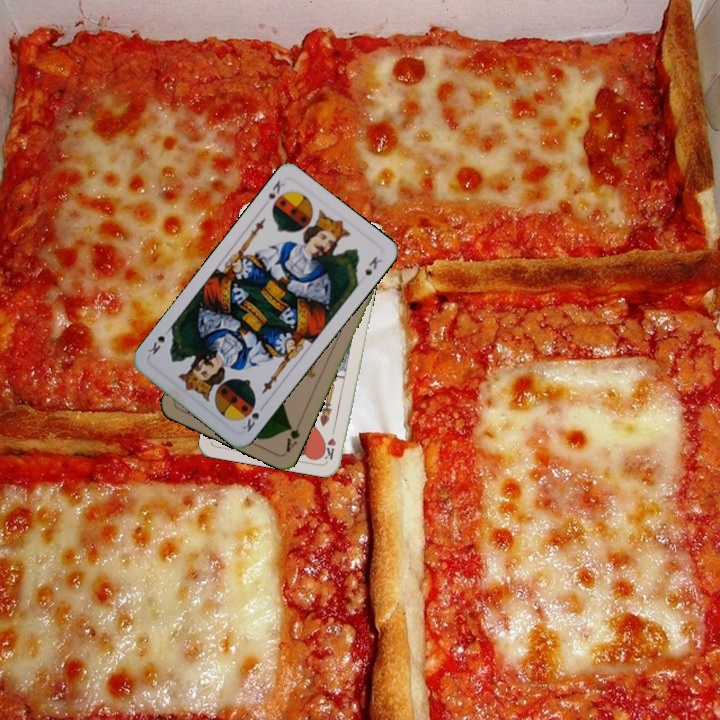GA: (282, 416, 304, 455)
HK: (321, 421, 339, 462)
SK: (238, 408, 262, 435), (264, 176, 287, 202)
